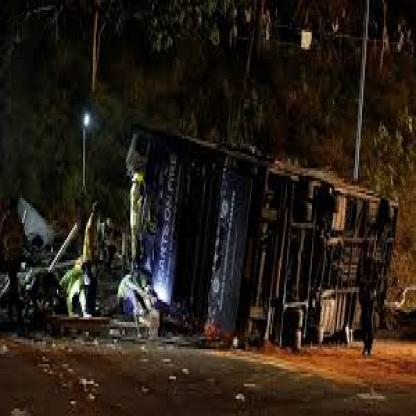accident: (106, 113, 407, 384)
